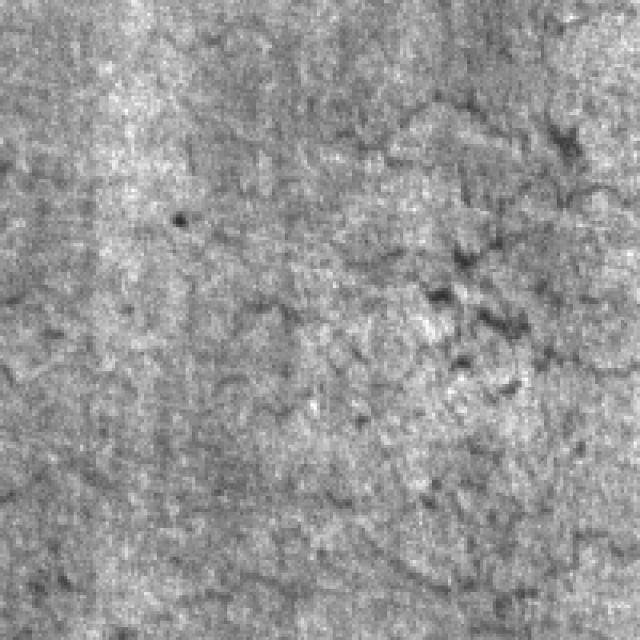crazing: (237, 74, 637, 387), (106, 448, 627, 630)
